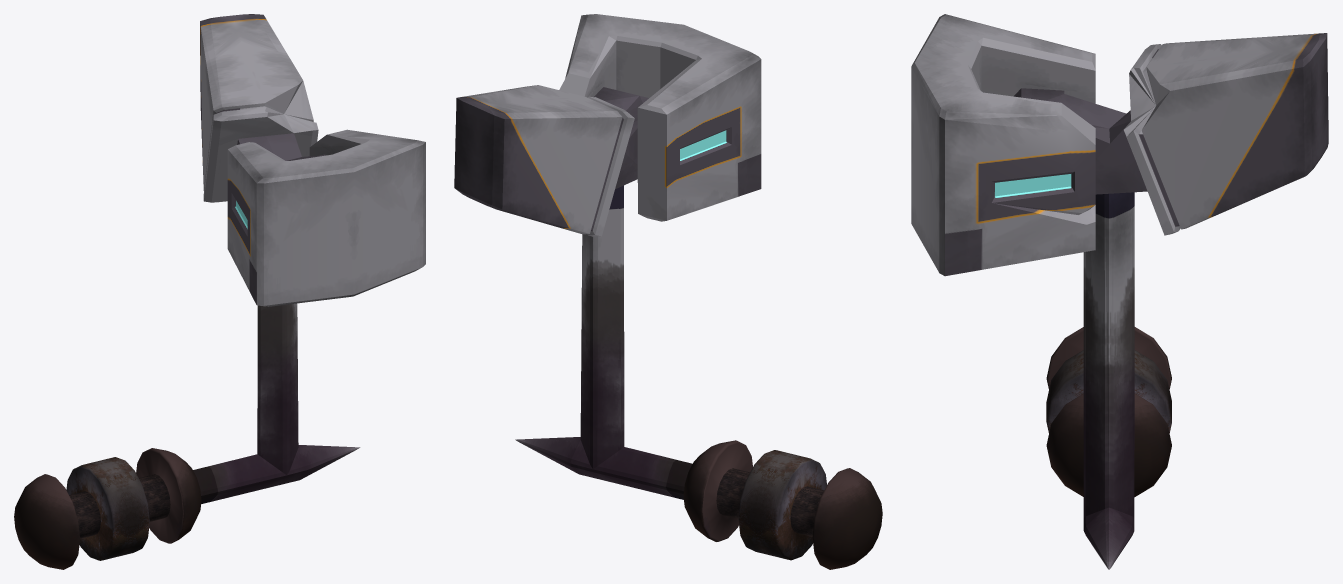
File: Chariot03_tiechui02_huai.FBX
The picture shows the model from 3 angles, left to right: view 1: azimuth 30°, elevation 25°; view 2: azimuth 150°, elevation 25°; view 3: azimuth 270°, elevation 25°; orthographic projection. The views are drawn at different scales.
Parts seen in each view (by area): view 1: Chariot03_tiechui02_huai, Chariot03_tiechui02_huai02; view 2: Chariot03_tiechui02_huai; view 3: Chariot03_tiechui02_huai, Chariot03_tiechui02_huai02.
Part boxes in pixels (box(x1,y1,x2,y2)): Chariot03_tiechui02_huai: box(14, 14, 417, 569); Chariot03_tiechui02_huai02: box(256, 140, 425, 306); Chariot03_tiechui02_huai: box(454, 14, 882, 569); Chariot03_tiechui02_huai: box(914, 14, 1328, 569); Chariot03_tiechui02_huai02: box(911, 14, 946, 275).
Bounding box in the file's own units: 1.61 × 1.94 × 1.33.
